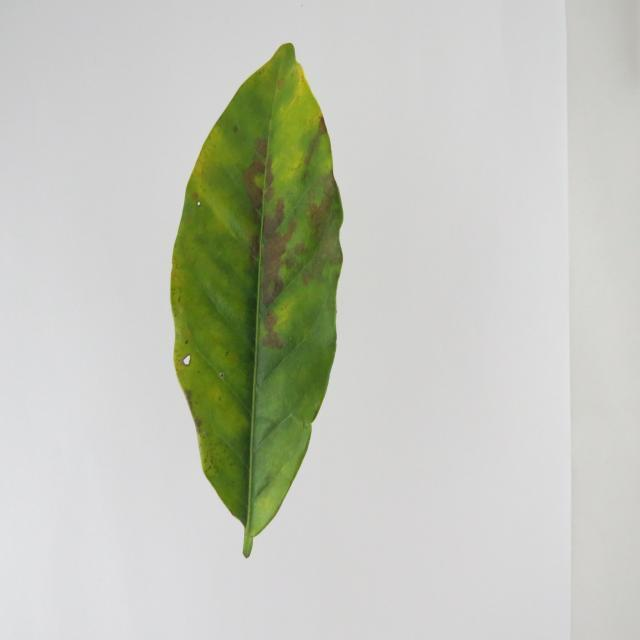DeficienciaNutricional-Nitrogeno: (175, 41, 341, 557)
